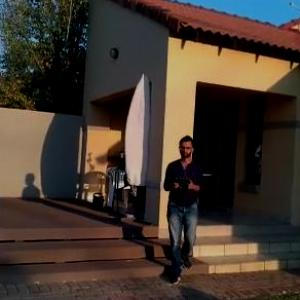follow: (160, 132, 204, 286)
